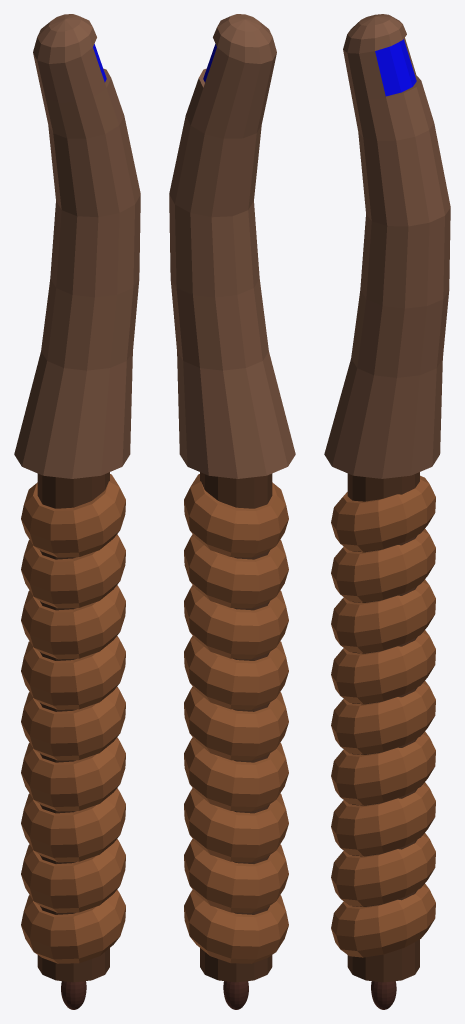
File: Wand 446.glb
3 views of the same model, side by side, from view 1: azimuth 30°, elevation 25°; view 2: azimuth 150°, elevation 25°; view 3: azimuth 330°, elevation 25° (orthographic).
Visible parts, largest first — view 1: GeneratedWand; view 2: GeneratedWand; view 3: GeneratedWand.
Part boxes in pixels (x1,y1,x2,y2): GeneratedWand: (14, 14, 140, 1009); GeneratedWand: (169, 14, 295, 1009); GeneratedWand: (324, 14, 450, 1009).
Size of the model in its own units: 0.0644 by 0.5392 by 0.0581.
